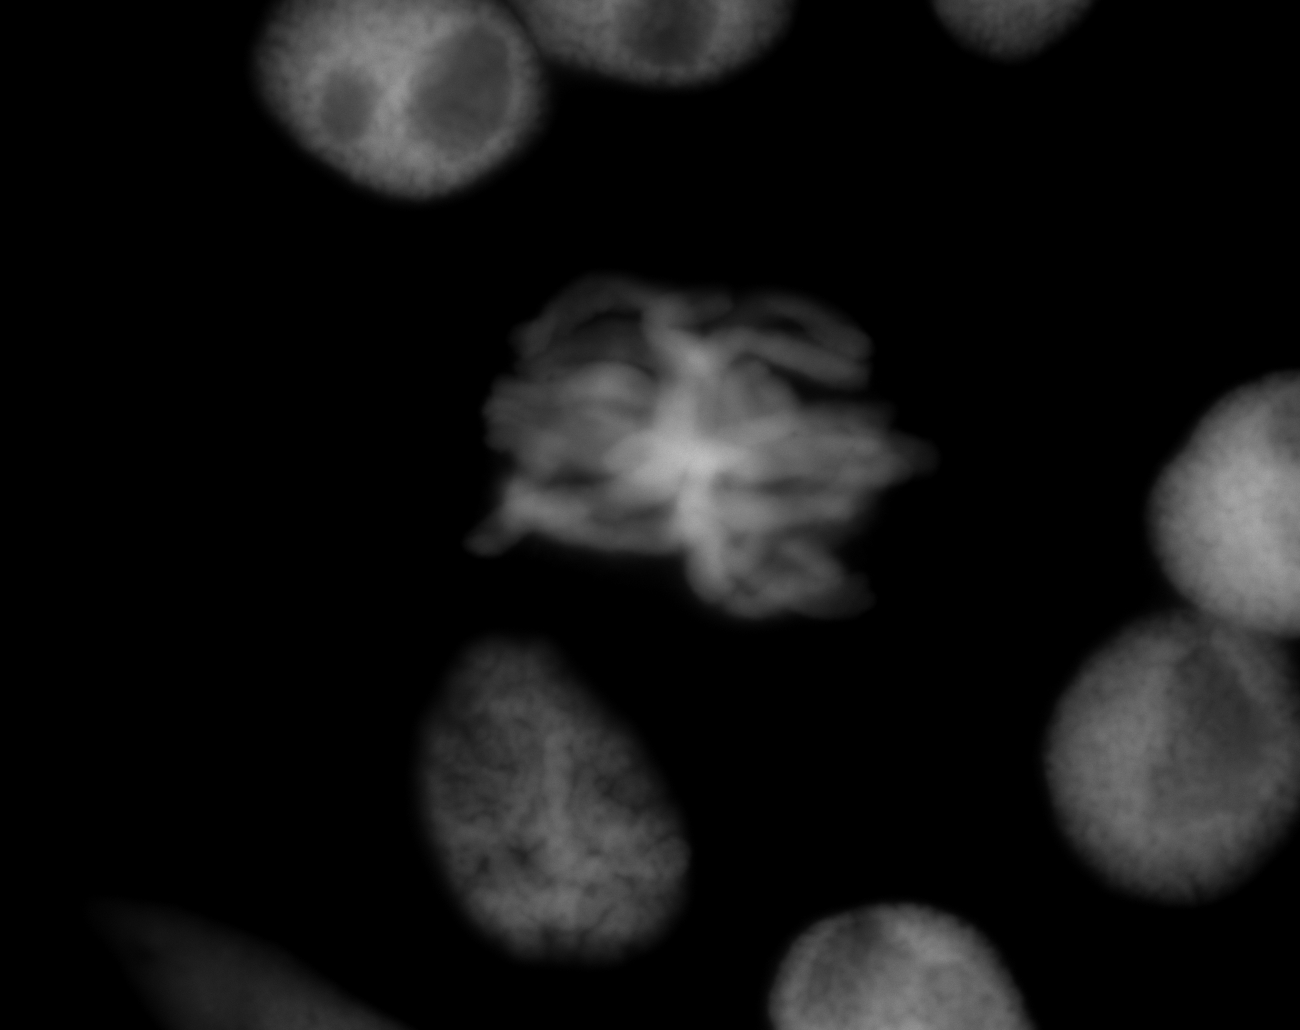Chromosomes: (385, 226, 984, 629)
Others: (367, 578, 727, 990), (1010, 598, 1300, 915), (246, 5, 592, 224), (1109, 331, 1300, 659), (31, 889, 447, 1026), (722, 876, 1054, 1030), (901, 1, 1131, 76)
